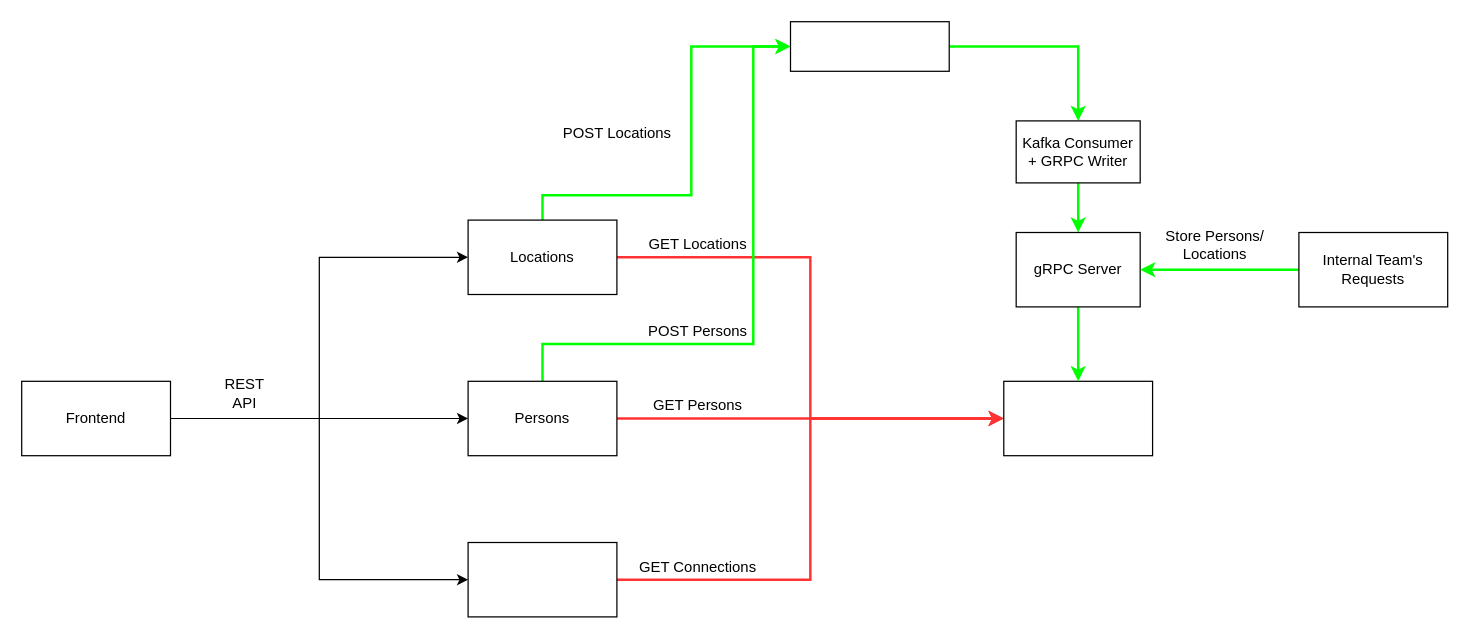
This 1469x639 diagram has some shape labels left out. Here are the shapes that lost their labels. From the top down, the centre of each, then its label:
point (869, 45): Kafka Broker
point (1078, 418): PostgreSQL
point (542, 579): Connections
